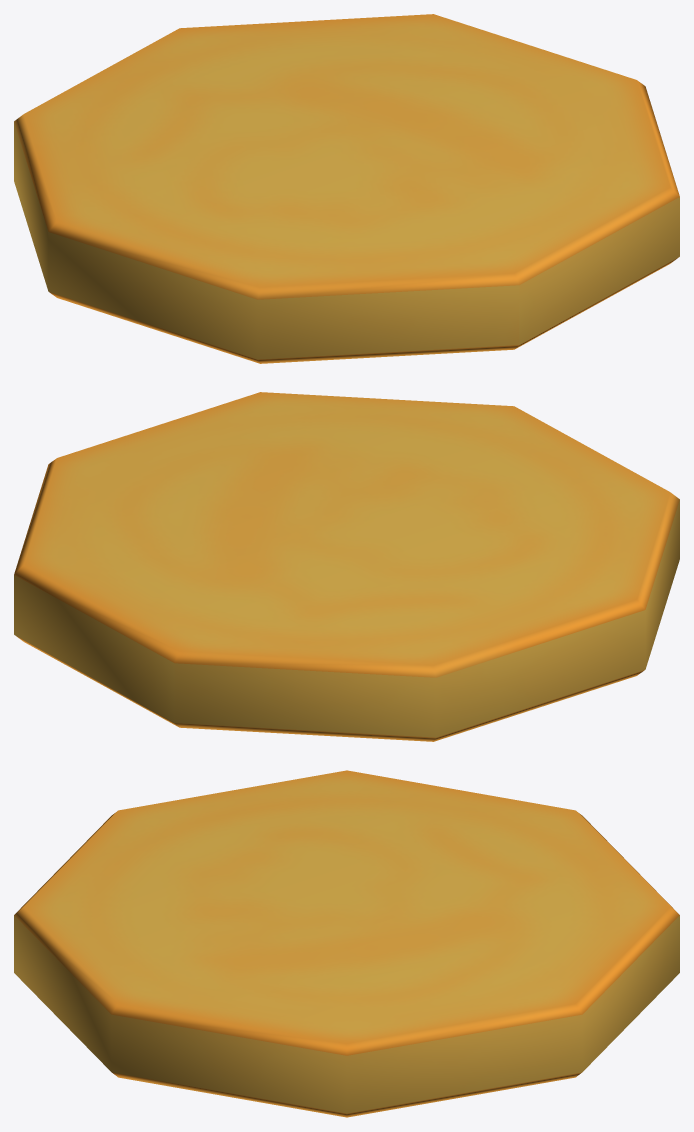
The model's file is Coin.003.fbx.
3 views of the same model, one above another, from view 1: azimuth 30°, elevation 25°; view 2: azimuth 150°, elevation 25°; view 3: azimuth 270°, elevation 25° (orthographic). The views are drawn at different scales.
Parts seen in each view (by area): view 1: Coin.003; view 2: Coin.003; view 3: Coin.003.
Boxes of the visible parts, x1,y1,x2,y2 form: Coin.003: [14, 14, 679, 363]; Coin.003: [14, 392, 679, 741]; Coin.003: [14, 770, 679, 1117].
Bounding box in the file's own units: 108 × 13.18 × 108.
